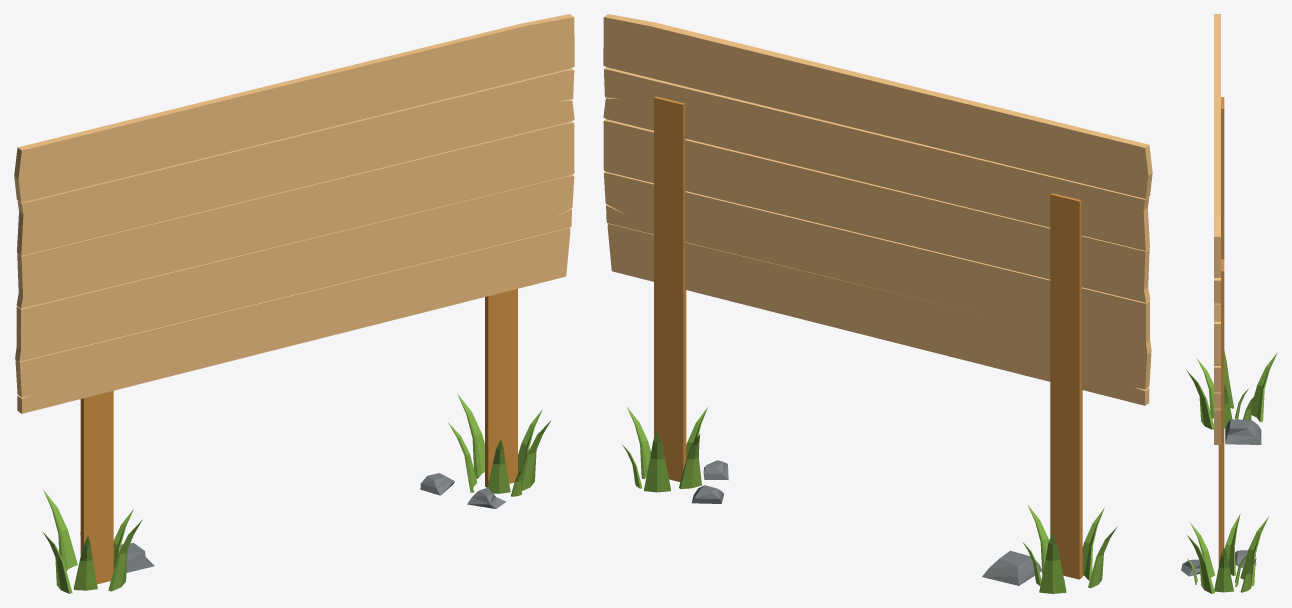
Rendered from picture-board.glb.
The picture shows the model from 3 angles, left to right: view 1: azimuth 30°, elevation 25°; view 2: azimuth 150°, elevation 25°; view 3: azimuth 270°, elevation 25°; orthographic projection. The views are drawn at different scales.
Parts seen in each view (by area): view 1: Sign12; view 2: Sign12; view 3: Sign12.
Part boxes in pixels (left/top/right/bottom): Sign12: left=14, top=14, right=574, bottom=593; Sign12: left=603, top=14, right=1152, bottom=593; Sign12: left=1181, top=14, right=1277, bottom=593.
Size of the model in its own units: 2.99 by 2.35 by 0.5488.
